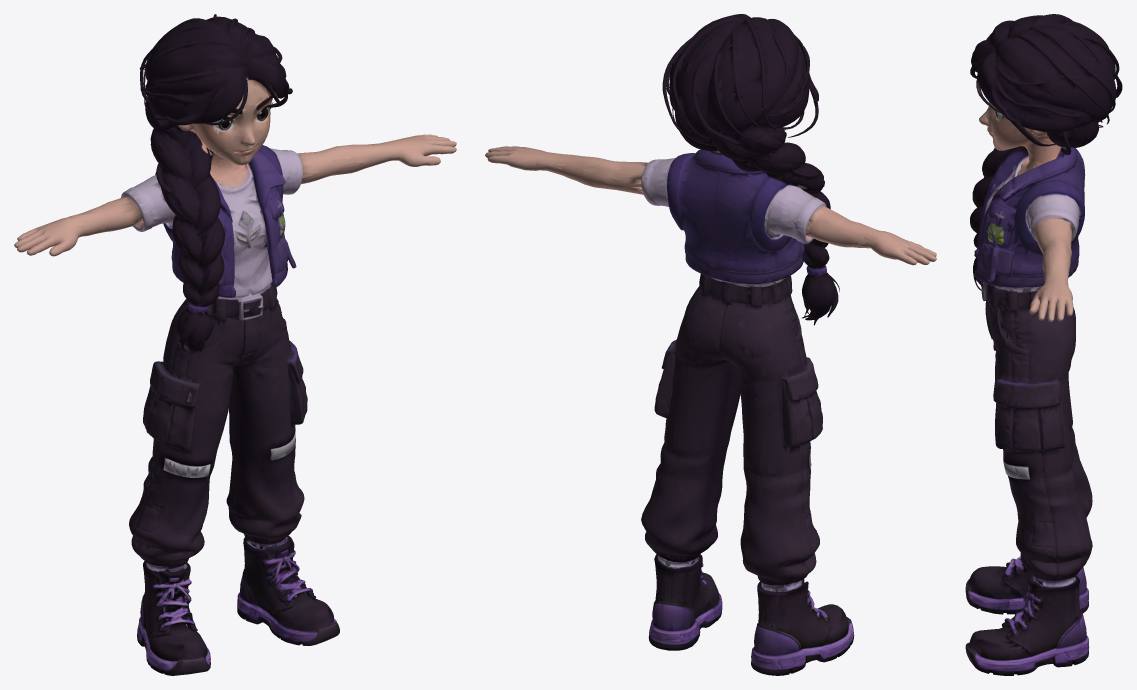
Rendered from tripo_convert_fc27051e-1390-4e2c-86a1-7164ae20d68f.fbx.
3 views of the same model, side by side, from view 1: azimuth 30°, elevation 25°; view 2: azimuth 150°, elevation 25°; view 3: azimuth 270°, elevation 25° (orthographic). The views are drawn at different scales.
Visible parts, largest first — view 1: tripo_node_fc27051e; view 2: tripo_node_fc27051e; view 3: tripo_node_fc27051e.
Part boxes in pixels (x1=…): tripo_node_fc27051e: x1=14, y1=14, x2=456, y2=675; tripo_node_fc27051e: x1=485, y1=14, x2=936, y2=675; tripo_node_fc27051e: x1=965, y1=14, x2=1122, y2=675.
Size of the model in its own units: 73.28 by 22.82 by 98.06.
Materials: 1 (1 with a texture image).
